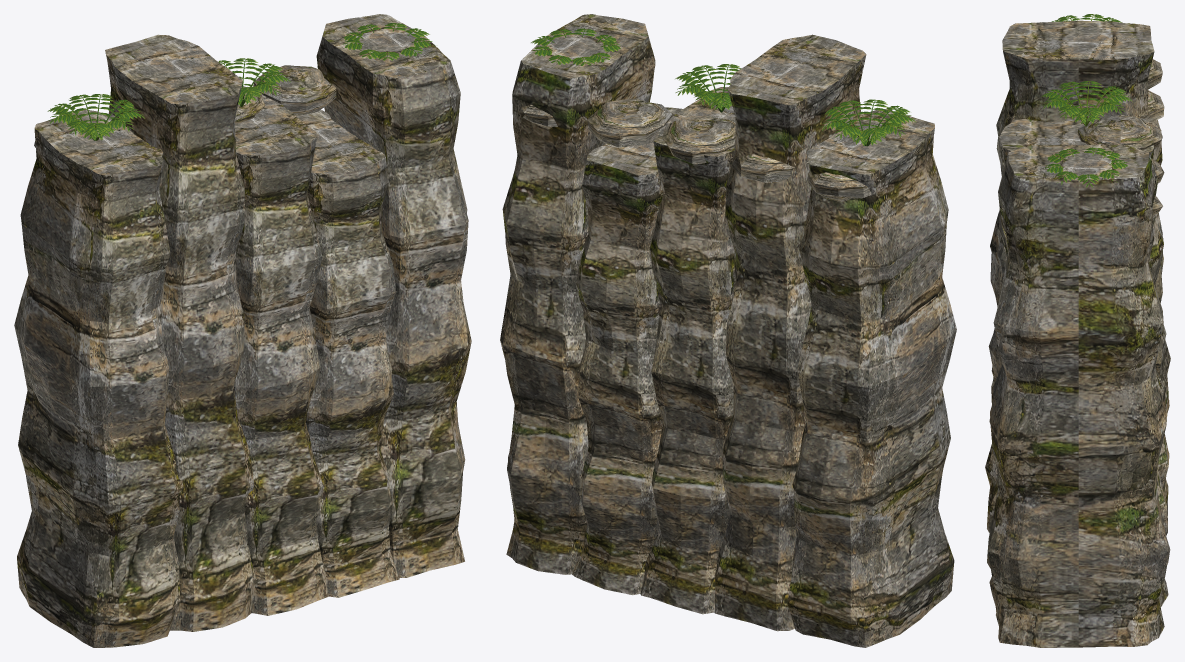
The model's file is SeaCliffWall.fbx.
3 views of the same model, side by side, from view 1: azimuth 30°, elevation 25°; view 2: azimuth 150°, elevation 25°; view 3: azimuth 270°, elevation 25° (orthographic). The views are drawn at different scales.
Parts seen in each view (by area): view 1: SeaCliffWall_LOD0; view 2: SeaCliffWall_LOD0; view 3: SeaCliffWall_LOD0.
Boxes of the visible parts, left/top/right/bottom form: SeaCliffWall_LOD0: left=14, top=14, right=471, bottom=647; SeaCliffWall_LOD0: left=500, top=14, right=956, bottom=647; SeaCliffWall_LOD0: left=985, top=14, right=1170, bottom=647.
Size of what is drawn, in the model's own units: 8.68 by 10.94 by 3.77.
